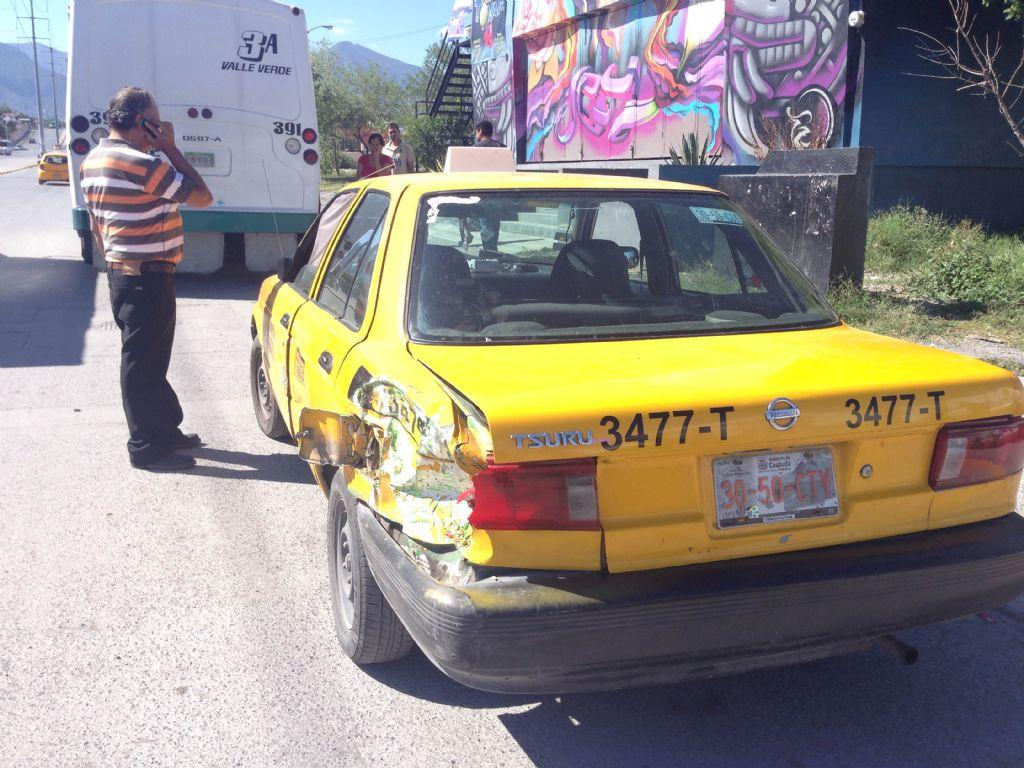taxi: (270, 172, 1024, 712)
